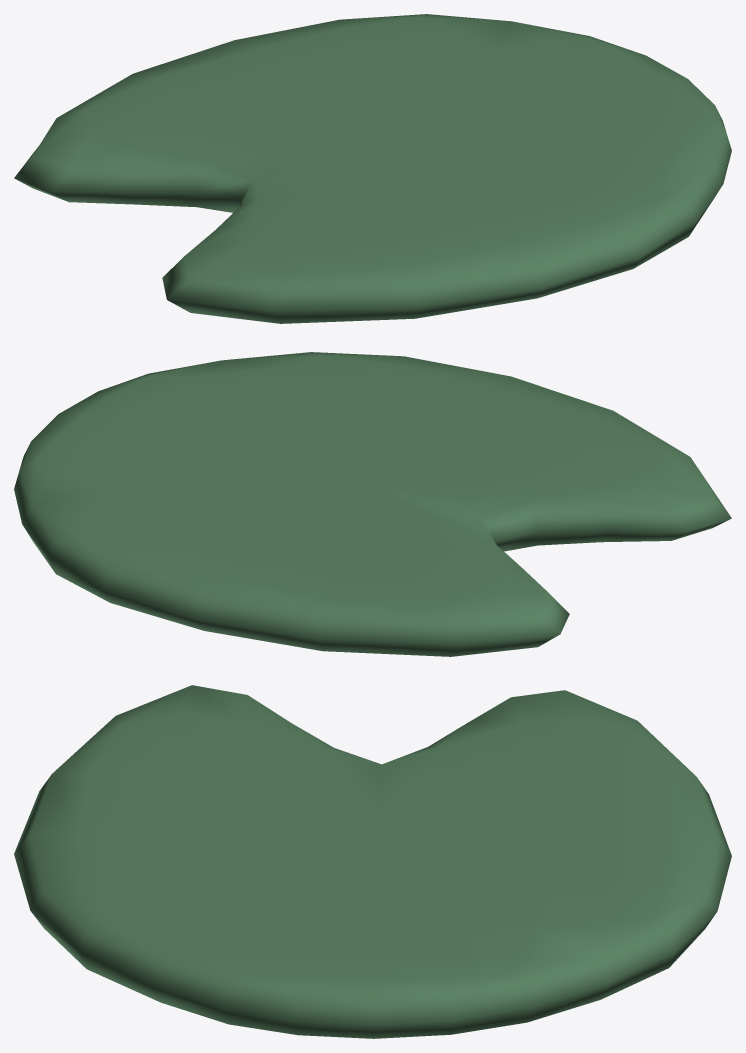
Rendered from nenuphar.fbx.
The picture shows the model from 3 angles, top to bottom: view 1: azimuth 30°, elevation 25°; view 2: azimuth 150°, elevation 25°; view 3: azimuth 270°, elevation 25°; orthographic projection. The views are drawn at different scales.
Visible parts, largest first — view 1: polySurface1; view 2: polySurface1; view 3: polySurface1.
Part boxes in pixels (left/top/right/bottom): polySurface1: left=14, top=14, right=731, bottom=323; polySurface1: left=14, top=352, right=731, bottom=656; polySurface1: left=14, top=685, right=731, bottom=1038.
Bounding box in the file's own units: 20.16 × 1.4 × 18.37.
